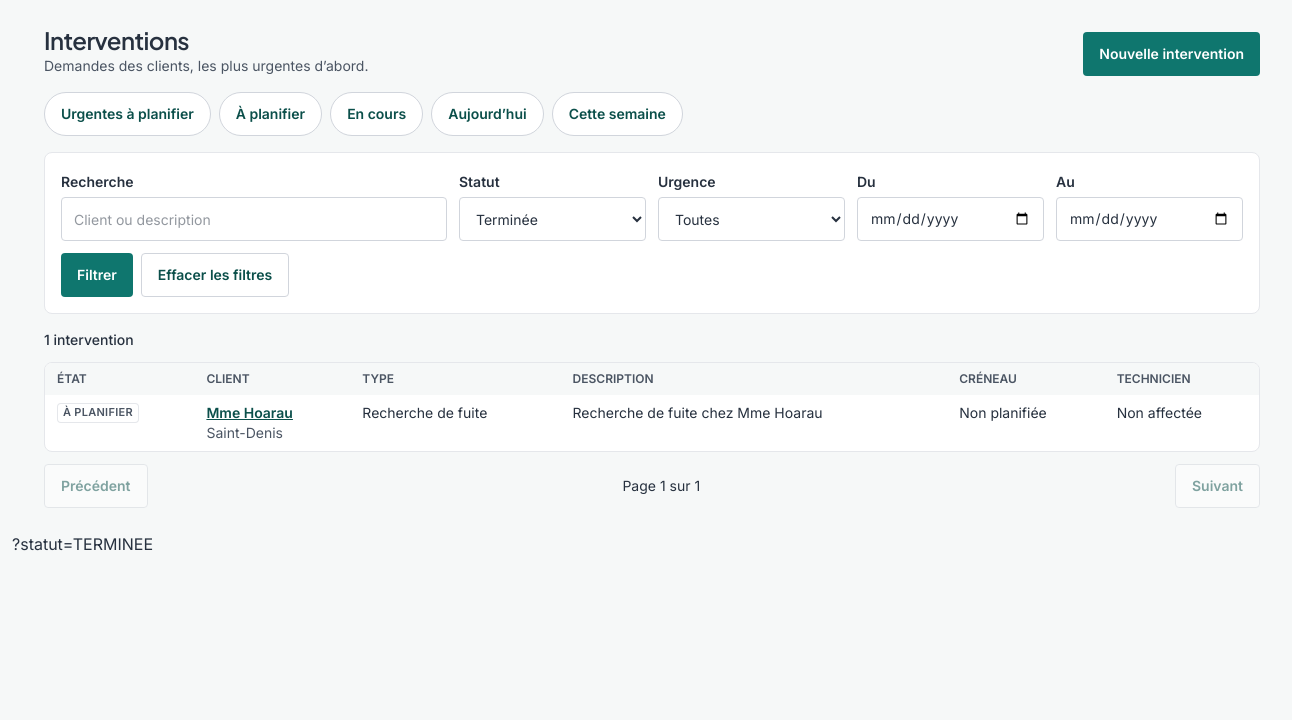
Test case: liste des interventions (US15) › US15 : efface les filtres
Check: the table is shown, box [45,363,1259,451]
Click the button "Effacer les filtres" at (215,275), box [141,253,289,297]
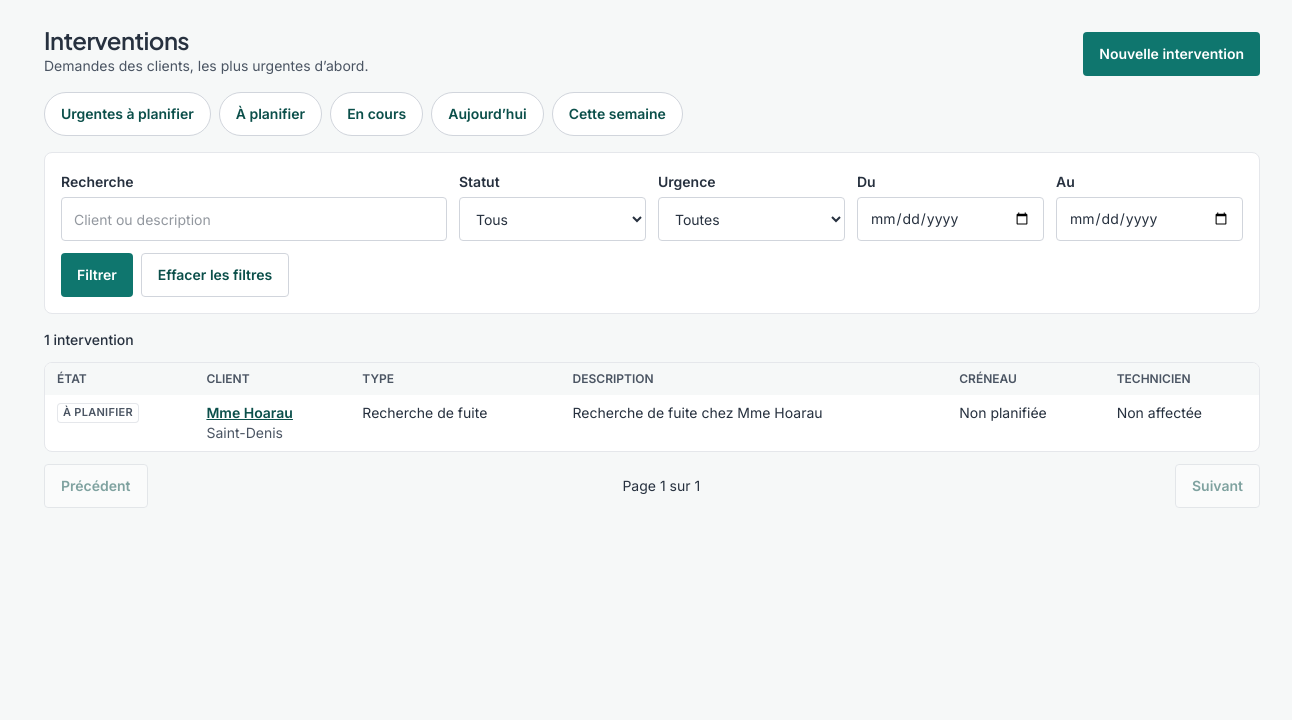
Check: the table is shown, box [45,363,1259,451]
Check: the dropdown labelled "Statut" shows "Tous", box [459,197,646,241]
